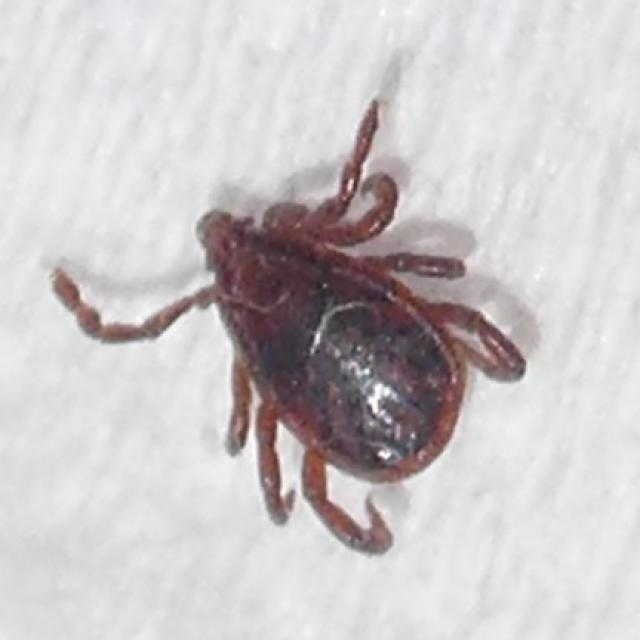Rhipicephalus Sanguineus-M: (49, 99, 529, 555)
